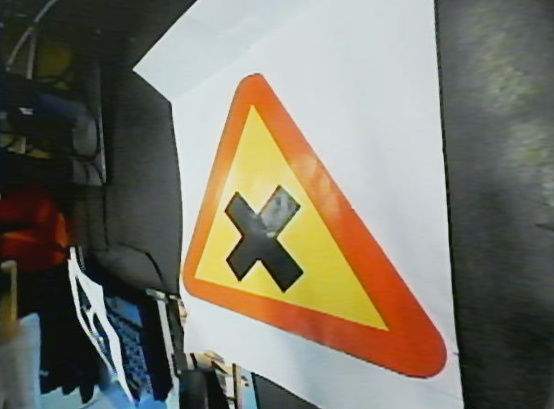junction: (172, 62, 455, 402)
